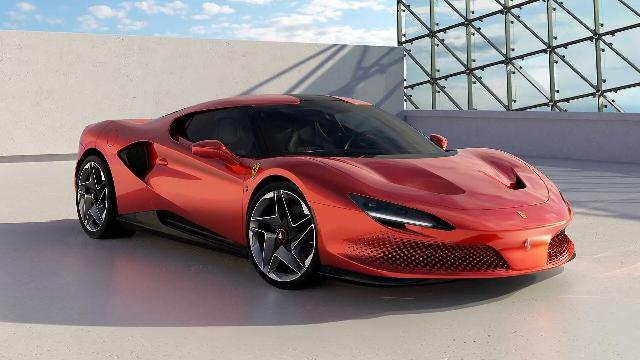ferrari: (74, 93, 576, 289)
